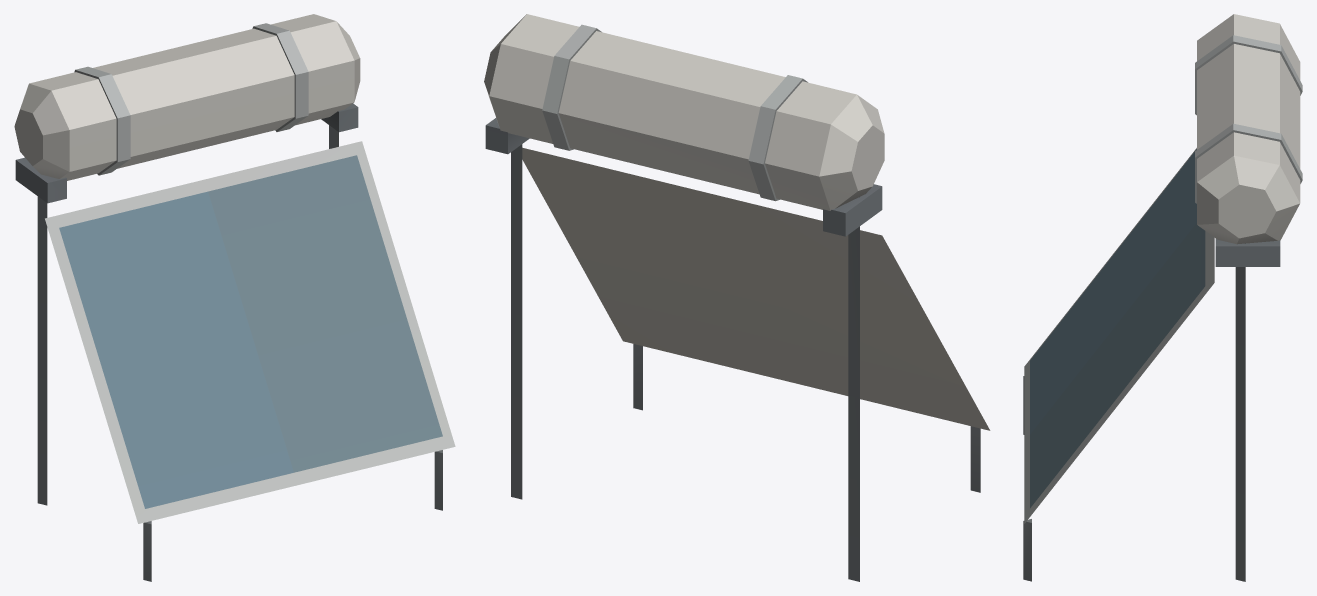
Rendered from solar.lod1.glb.
3 renders of one model, left to right at view 1: azimuth 30°, elevation 25°; view 2: azimuth 150°, elevation 25°; view 3: azimuth 270°, elevation 25°, orthographic. The views are drawn at different scales.
Bounding box in the file's own units: 1.96 × 2.46 × 1.47.
